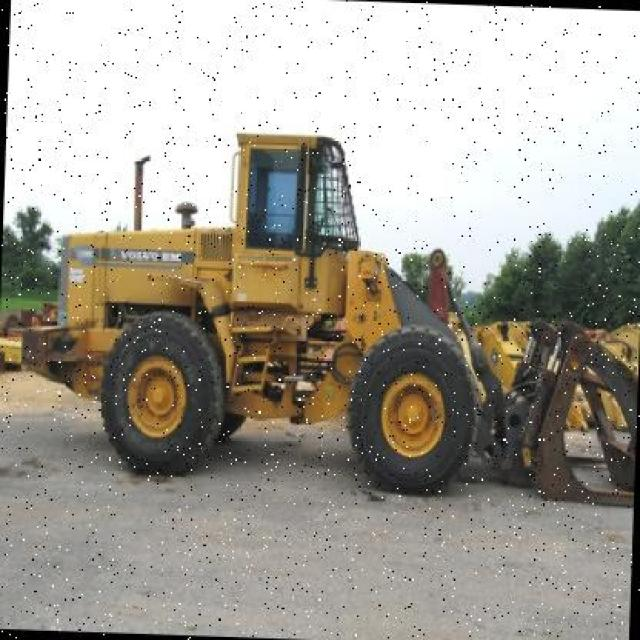buldozerpayloadergrader: (15, 122, 640, 500)
